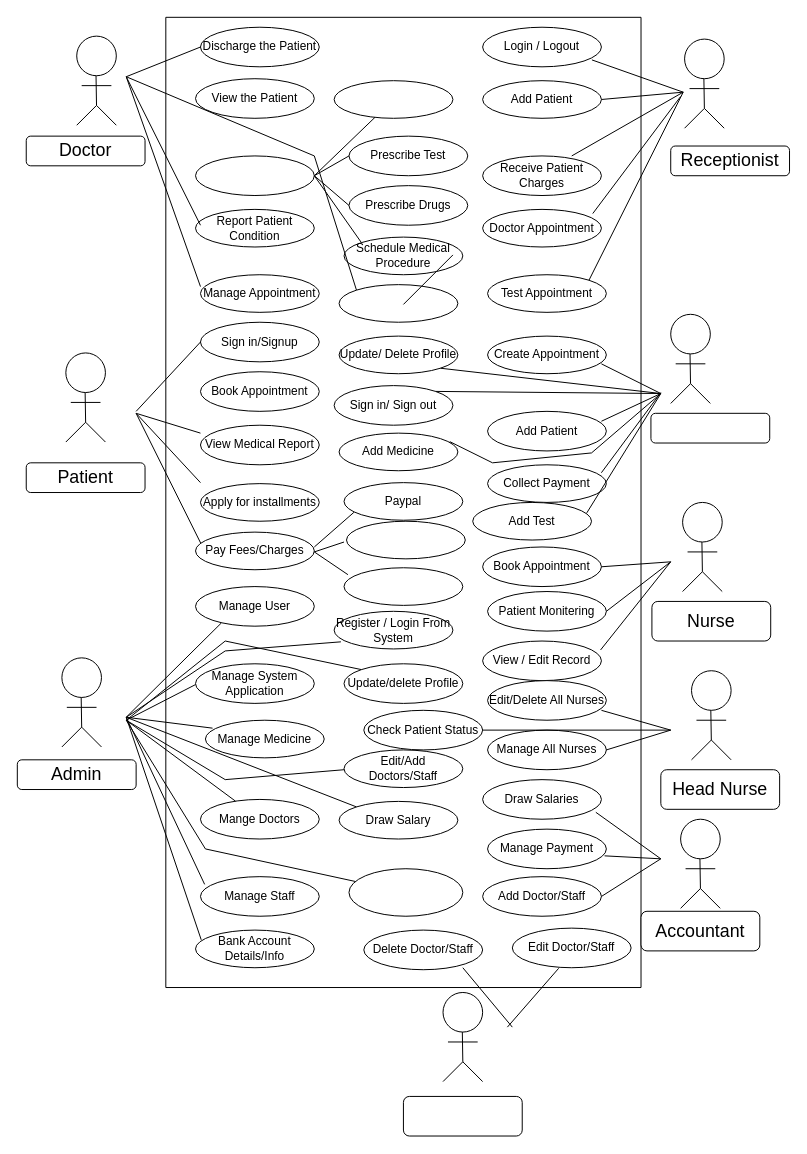
Some shapes in this 807 by 1154 pixel diagram are drawn without their labels. Here are the shapes that lost their labels. From the top down, the centre of each, then its label:
point (393, 99): All Diagnoses
point (254, 175): Examine the patient
point (398, 303): Operate the Patient
point (710, 427): Hospital Staff
point (405, 539): Payoneer
point (403, 586): Credit Card (Naya Pay)
point (405, 892): Patient's Payment Information
point (462, 1115): Record Manager
